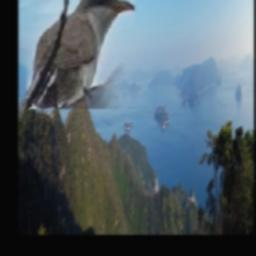Cuckoo: (28, 0, 135, 110)
